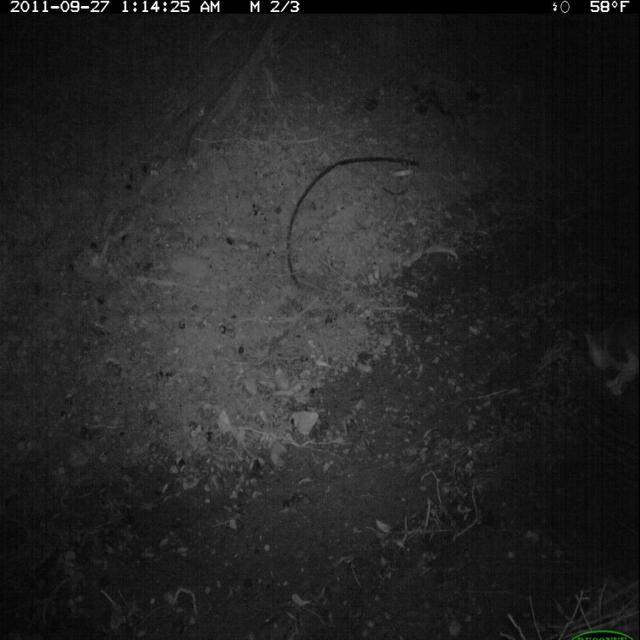cat: (580, 304, 640, 403)
